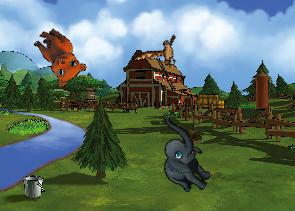bear: (22, 23, 92, 91)
eagle: (131, 24, 189, 82)
elephant: (139, 115, 227, 199)
